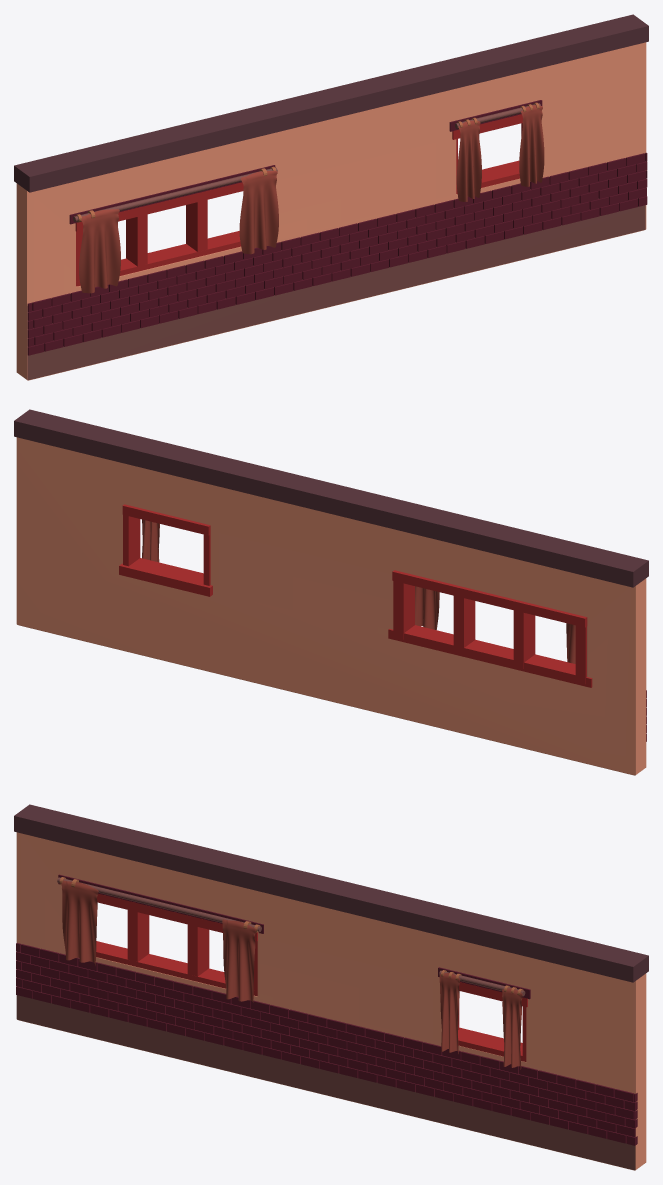
File: parede-fundo 1.fbx
3 views of the same model, one above another, from view 1: azimuth 30°, elevation 25°; view 2: azimuth 150°, elevation 25°; view 3: azimuth 330°, elevation 25° (orthographic).
Parts seen in each view (by area): view 1: Cube.057; view 2: Cube.057; view 3: Cube.057.
Part boxes in pixels (left/top/right/bottom): Cube.057: left=14, top=14, right=648, bottom=380; Cube.057: left=14, top=409, right=648, bottom=775; Cube.057: left=14, top=804, right=648, bottom=1170.
Size of the model in its own units: 13 by 4.13 by 0.7748.
